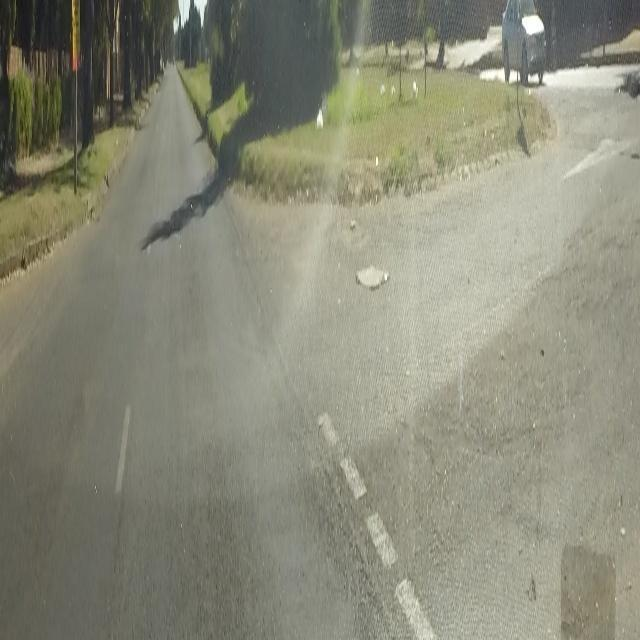pothole: (631, 148, 640, 164)
